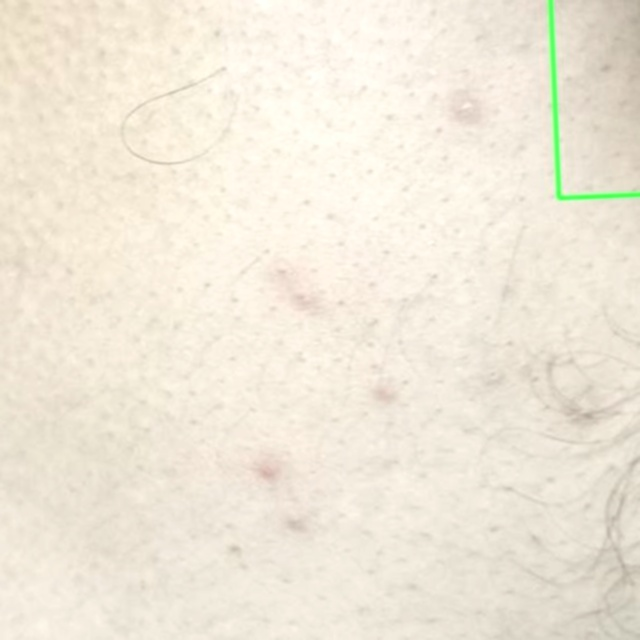Eczema: (550, 0, 639, 198)
